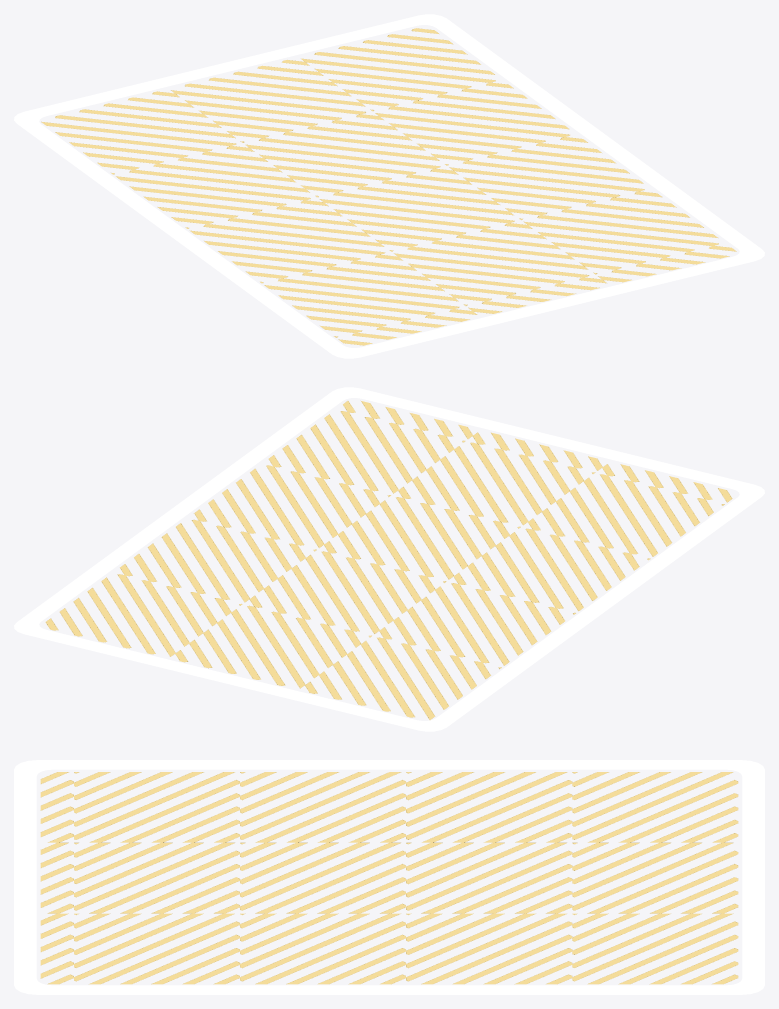
Rendered from mwx_hl_g.glb.
3 renders of one model, top to bottom at view 1: azimuth 30°, elevation 25°; view 2: azimuth 150°, elevation 25°; view 3: azimuth 270°, elevation 25°, orthographic. The views are drawn at different scales.
Parts seen in each view (by area): view 1: mwx_hl_g; view 2: mwx_hl_g; view 3: mwx_hl_g.
Part boxes in pixels (x1,y1,x2,y2): mwx_hl_g: (14,14,764,358); mwx_hl_g: (14,387,764,731); mwx_hl_g: (14,760,764,994).
Size of the model in its own units: 7.3 by 0.01 by 9.87.
Materials: 2 (1 with a texture image).
